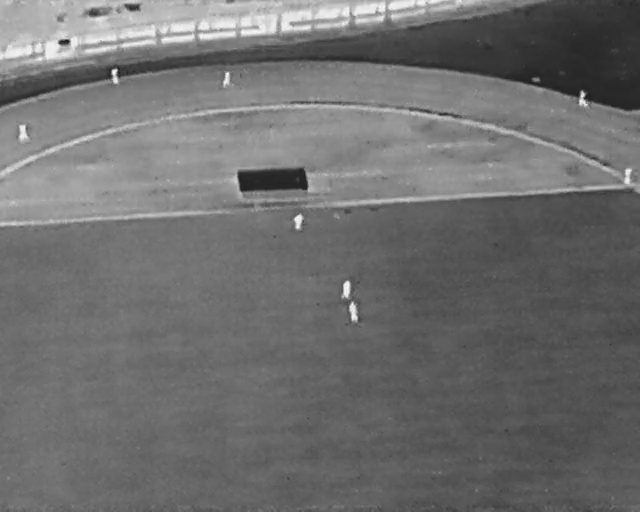Person: (18, 123, 30, 144), (348, 301, 359, 322), (293, 212, 305, 231), (342, 280, 352, 301), (578, 89, 589, 107), (222, 71, 231, 89), (623, 167, 632, 185), (111, 68, 120, 85)
